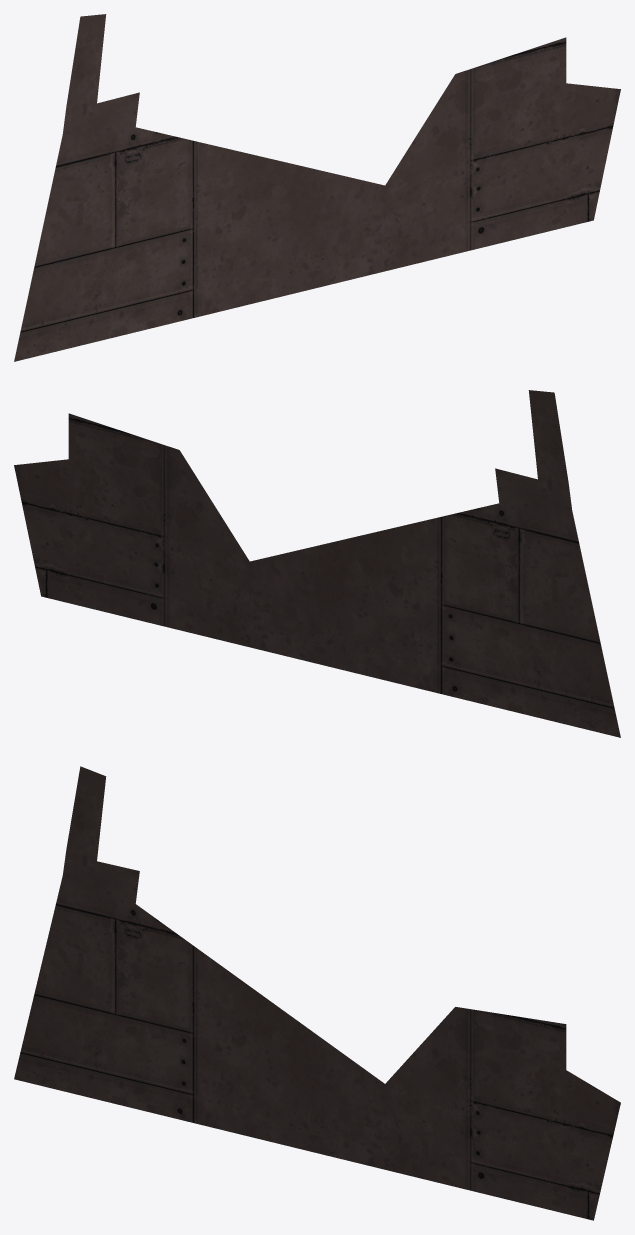
File: Vista03.fbx
The picture shows the model from 3 angles, top to bottom: view 1: azimuth 30°, elevation 25°; view 2: azimuth 150°, elevation 25°; view 3: azimuth 330°, elevation 25°; orthographic projection.
Visible parts, largest first — view 1: SM_ENV_STRUCT_ScrapYard_Vista_03.mo; view 2: SM_ENV_STRUCT_ScrapYard_Vista_03.mo; view 3: SM_ENV_STRUCT_ScrapYard_Vista_03.mo.
Boxes of the visible parts, bbox=[...] form: SM_ENV_STRUCT_ScrapYard_Vista_03.mo: bbox=[14, 14, 620, 361]; SM_ENV_STRUCT_ScrapYard_Vista_03.mo: bbox=[14, 390, 620, 737]; SM_ENV_STRUCT_ScrapYard_Vista_03.mo: bbox=[14, 766, 620, 1220].
Size of the model in its own units: 2290 by 1187 by 0.000193.
1 material, 1 textured.
